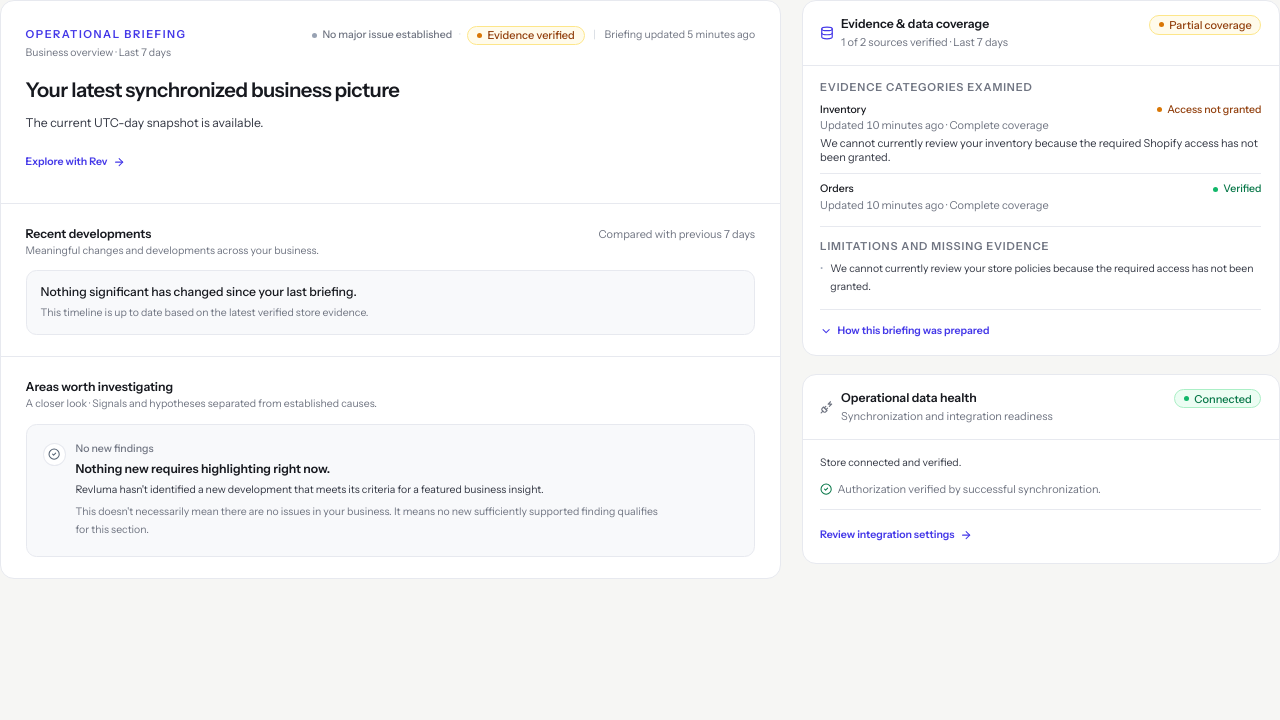
Scenario: Operational Briefing Rebuild › 7. translates technical permissions into merchant-friendly copy inside the expandable evidence drawer
Click the heading "How this briefing was prepared". click: (905, 331)
box: x1=820 y1=322 x2=989 y2=340
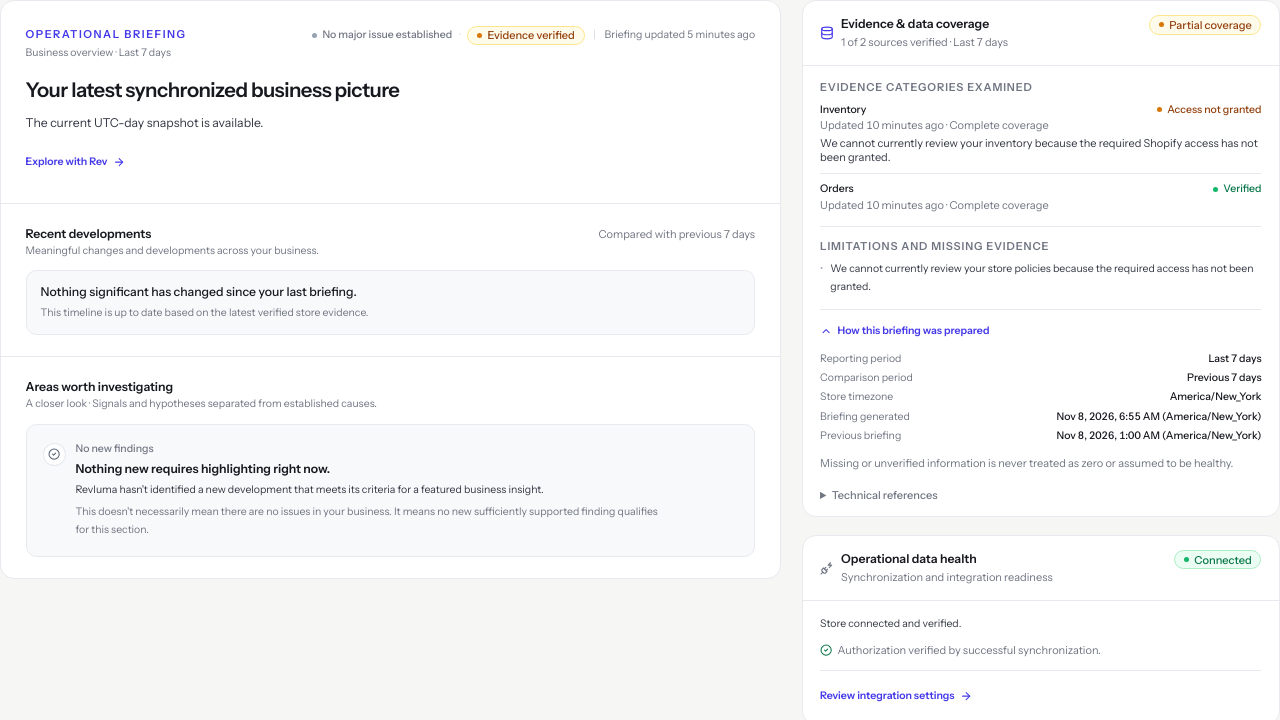
Expected: the text "Last 7 days" is shown, x1=1208 y1=352 x2=1262 y2=366
Expected: the text "America/New_York" is shown, x1=1170 y1=390 x2=1262 y2=404
Expected: the heading "Technical references" is shown, x1=832 y1=488 x2=938 y2=502
